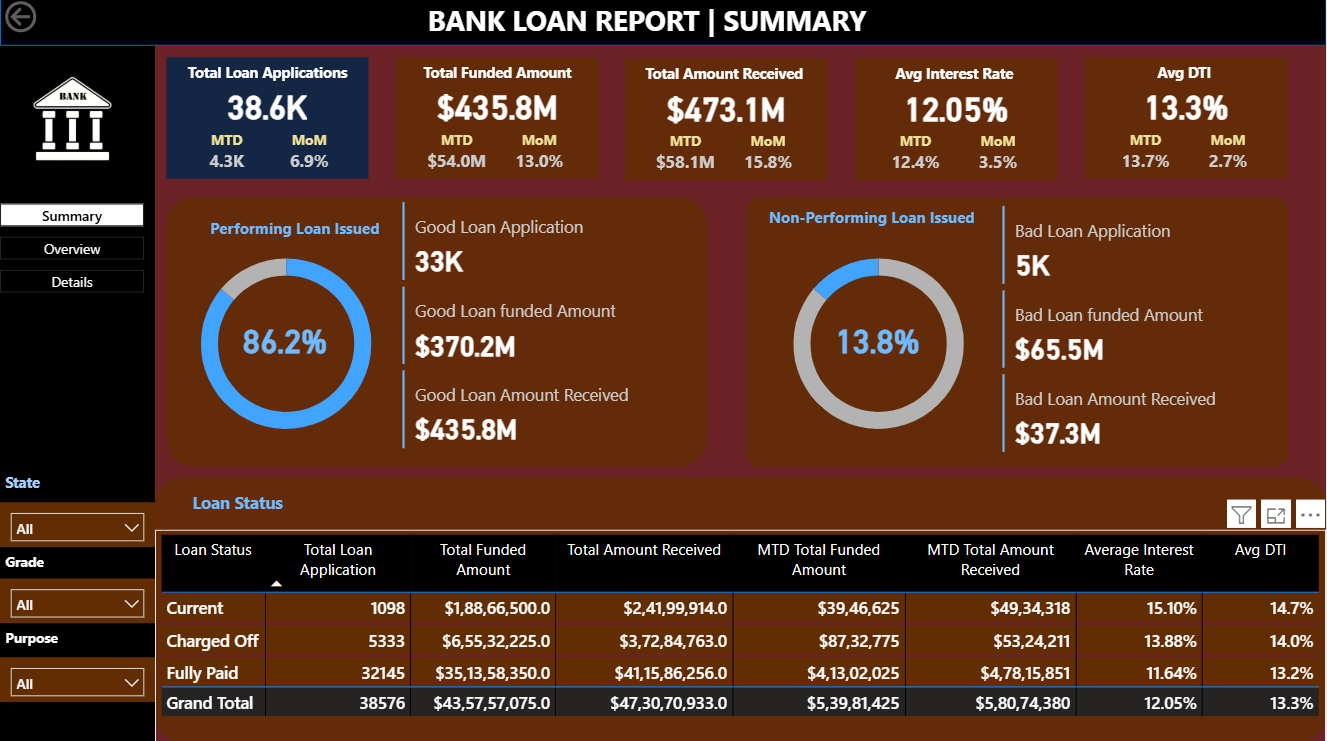

Layout of this report page (visuals, bound fields, positions):
{"tool":"powerbi","page":{"name":"Summary","canvas":[1280,720],"ordinal":0},"visuals":[{"type":"shape","box":[149.6,464.5,1130.4,255.8],"z":0},{"type":"shape","box":[0,48.3,149.6,672],"z":1000},{"type":"shape","box":[0,0,1280.3,48],"z":2000},{"type":"shape","box":[160.4,59.3,195.4,117.2],"z":3000,"group":"g1"},{"type":"shape","box":[382.1,59.3,195.4,117.2],"z":3000,"group":"g2"},{"type":"shape","box":[1047.1,59.3,195.4,117.2],"z":3000,"group":"g5"},{"type":"shape","box":[603.8,60.6,195.4,117.2],"z":3000,"group":"g3"},{"type":"shape","box":[825.4,60.6,195.4,117.2],"z":3000,"group":"g4"},{"type":"shape","box":[160.4,194.1,522,260],"z":3000},{"type":"textbox","box":[408.3,0,439.3,45.8],"z":4000},{"type":"cardVisual","fields":{"Data":["financial_loan.Total Loan Application"]},"box":[160.4,74.1,195.4,59.3],"z":4000,"group":"g1"},{"type":"cardVisual","fields":{"Data":["financial_loan.Total Funded Amount"]},"box":[382.1,74.1,195.4,59.3],"z":4000,"group":"g2"},{"type":"cardVisual","fields":{"Data":["financial_loan.Avg DTI"]},"box":[1047.1,74.1,195.4,59.3],"z":4000,"group":"g5"},{"type":"cardVisual","fields":{"Data":["financial_loan.Total Amount Received"]},"box":[603.8,75.4,195.4,59.3],"z":4000,"group":"g3"},{"type":"cardVisual","fields":{"Data":["financial_loan.Average Interest Rate"]},"box":[825.4,75.4,195.4,59.3],"z":4000,"group":"g4"},{"type":"actionButton","box":[0,0,100,40],"z":5000},{"type":"textbox","box":[160.4,59.3,195.4,29.6],"z":5000,"group":"g1"},{"type":"textbox","box":[382.1,59.3,195.4,29.6],"z":5000,"group":"g2"},{"type":"textbox","box":[1047.1,59.3,195.4,29.6],"z":5000,"group":"g5"},{"type":"textbox","box":[603.8,60.6,195.4,29.6],"z":5000,"group":"g3"},{"type":"textbox","box":[825.4,60.6,195.4,29.6],"z":5000,"group":"g4"},{"type":"group","id":"g1","title":"Group 1","box":[160.4,59.3,195.4,117.2],"z":6000},{"type":"card","title":"MTD","fields":{"Values":["financial_loan.MTD Loan Application"]},"box":[179.3,129.4,78.2,47.2],"z":6000,"group":"g1"},{"type":"card","title":"MTD","fields":{"Values":["financial_loan.MTD Funded Amount"]},"box":[401,129.4,78.2,47.2],"z":6000,"group":"g2"},{"type":"card","title":"MTD","fields":{"Values":["financial_loan.MTD Avg DTI"]},"box":[1066,129.4,78.2,47.2],"z":6000,"group":"g5"},{"type":"card","title":"MTD","fields":{"Values":["financial_loan.MTD Total Amount Received"]},"box":[622.7,130.7,78.2,47.2],"z":6000,"group":"g3"},{"type":"card","title":"MTD","fields":{"Values":["financial_loan.MTD Avg Int Rate"]},"box":[844.3,130.7,78.2,47.2],"z":6000,"group":"g4"},{"type":"card","title":"MoM","fields":{"Values":["financial_loan.MoM Loan Application"]},"box":[258.8,129.4,78.2,47.2],"z":7000,"group":"g1"},{"type":"card","title":"MoM","fields":{"Values":["financial_loan.MoM Funded Amount"]},"box":[480.5,129.4,78.2,47.2],"z":7000,"group":"g2"},{"type":"card","title":"MoM","fields":{"Values":["financial_loan.MoM Avg DTI"]},"box":[1145.5,129.4,78.2,47.2],"z":7000,"group":"g5"},{"type":"card","title":"MoM","fields":{"Values":["financial_loan.MoM Amount received"]},"box":[702.2,130.7,78.2,47.2],"z":7000,"group":"g3"},{"type":"card","title":"MoM","fields":{"Values":["financial_loan.MoM Avg Int Rate"]},"box":[923.8,130.7,78.2,47.2],"z":7000,"group":"g4"},{"type":"textbox","box":[187.3,208.9,195.4,29.6],"z":7000},{"type":"cardVisual","fields":{"Data":["financial_loan.Performing Loan %"]},"box":[177.9,299.2,195.4,60.6],"z":8000},{"type":"group","id":"g2","title":"Group 1","box":[382.1,59.3,195.4,117.2],"z":9000},{"type":"donutChart","fields":{"Category":["financial_loan.Good Vs Bad Loan"],"Y":["financial_loan.Total Loan Application"]},"box":[160.4,227.8,231.8,215.6],"z":10000},{"type":"group","id":"g3","title":"Group 1","box":[603.8,60.6,195.4,117.2],"z":11000},{"type":"group","id":"g4","title":"Group 1","box":[825.4,60.6,195.4,117.2],"z":12000},{"type":"group","id":"g5","title":"Group 1","box":[1047.1,59.3,195.4,117.2],"z":13000},{"type":"shape","box":[719.6,194.1,522.9,260.1],"z":14000},{"type":"cardVisual","fields":{"Data":["financial_loan.Good Loan Application","financial_loan.Good Loan funded Amount","financial_loan.Good Loan Amount Received"]},"box":[384.1,194.1,277.6,249.3],"z":15000},{"type":"donutChart","fields":{"Category":["financial_loan.Good Vs Bad Loan"],"Y":["financial_loan.Total Loan Application"]},"box":[731.8,227.8,231.8,215.6],"z":16000},{"type":"textbox","box":[731.8,198.1,218.3,29.6],"z":17000},{"type":"cardVisual","fields":{"Data":["financial_loan.Non-Performing Loan %"]},"box":[749.3,299.2,195.4,60.6],"z":18000},{"type":"cardVisual","fields":{"Data":["financial_loan.Bad Loan Application","financial_loan.Bad Loan funded Amount","financial_loan.Bad Loan Amount Received"]},"box":[962.7,197.9,277.5,249.7],"z":19000},{"type":"tableEx","fields":{"Values":["financial_loan.loan_status","financial_loan.Total Loan Application","financial_loan.Total Funded Amount","financial_loan.Total Amount Received","financial_loan.MTD Total Funded Amount","financial_loan.MTD Total Amount Received","financial_loan.Average Interest Rate","financial_loan.Avg DTI"]},"box":[149.6,515.2,1130.4,205.1],"z":20000},{"type":"textbox","box":[160.5,472.9,137.5,42.2],"z":21000},{"type":"slicer","fields":{"Values":["financial_loan.address_state"]},"box":[0,488.6,149.6,43.4],"z":22000},{"type":"textbox","box":[0,454.8,84.5,33.8],"z":23000},{"type":"slicer","fields":{"Values":["financial_loan.grade"]},"box":[0,562.2,149.6,43.4],"z":24000},{"type":"textbox","box":[0,532,84.5,30.2],"z":25000},{"type":"slicer","fields":{"Values":["financial_loan.purpose"]},"box":[0,638.2,149.6,43.4],"z":26000},{"type":"textbox","box":[0,605.6,84.5,32.6],"z":27000},{"type":"pageNavigator","box":[0,200.3,139.9,88.1],"z":28000},{"type":"image","box":[0,60.3,139.9,115.8],"z":29000}]}

Visuals, with their boxes on the page's 1280x720 design canvas (x1, y1, x2, y2). These are canvas units, not pixel positions in the 1327x741 screenshot, which may show the page scaled, cropped or inside an application window:
shape: box=[150, 464, 1280, 720]
shape: box=[0, 48, 150, 720]
shape: box=[0, 0, 1280, 48]
shape: box=[160, 59, 356, 176]
shape: box=[382, 59, 578, 176]
shape: box=[1047, 59, 1242, 176]
shape: box=[604, 61, 799, 178]
shape: box=[825, 61, 1021, 178]
shape: box=[160, 194, 682, 454]
textbox: box=[408, 0, 848, 46]
cardVisual - financial_loan.Total Loan Application: box=[160, 74, 356, 133]
cardVisual - financial_loan.Total Funded Amount: box=[382, 74, 578, 133]
cardVisual - financial_loan.Avg DTI: box=[1047, 74, 1242, 133]
cardVisual - financial_loan.Total Amount Received: box=[604, 75, 799, 135]
cardVisual - financial_loan.Average Interest Rate: box=[825, 75, 1021, 135]
actionButton: box=[0, 0, 100, 40]
textbox: box=[160, 59, 356, 89]
textbox: box=[382, 59, 578, 89]
textbox: box=[1047, 59, 1242, 89]
textbox: box=[604, 61, 799, 90]
textbox: box=[825, 61, 1021, 90]
"Group 1" group: box=[160, 59, 356, 176]
"MTD" card: box=[179, 129, 258, 177]
"MTD" card: box=[401, 129, 479, 177]
"MTD" card: box=[1066, 129, 1144, 177]
"MTD" card: box=[623, 131, 701, 178]
"MTD" card: box=[844, 131, 922, 178]
"MoM" card: box=[259, 129, 337, 177]
"MoM" card: box=[480, 129, 559, 177]
"MoM" card: box=[1146, 129, 1224, 177]
"MoM" card: box=[702, 131, 780, 178]
"MoM" card: box=[924, 131, 1002, 178]
textbox: box=[187, 209, 383, 238]
cardVisual - financial_loan.Performing Loan %: box=[178, 299, 373, 360]
"Group 1" group: box=[382, 59, 578, 176]
donutChart - financial_loan.Good Vs Bad Loan x financial_loan.Total Loan Application: box=[160, 228, 392, 443]
"Group 1" group: box=[604, 61, 799, 178]
"Group 1" group: box=[825, 61, 1021, 178]
"Group 1" group: box=[1047, 59, 1242, 176]
shape: box=[720, 194, 1242, 454]
cardVisual - financial_loan.Good Loan Application x financial_loan.Good Loan funded Amount: box=[384, 194, 662, 443]
donutChart - financial_loan.Good Vs Bad Loan x financial_loan.Total Loan Application: box=[732, 228, 964, 443]
textbox: box=[732, 198, 950, 228]
cardVisual - financial_loan.Non-Performing Loan %: box=[749, 299, 945, 360]
cardVisual - financial_loan.Bad Loan Application x financial_loan.Bad Loan funded Amount: box=[963, 198, 1240, 448]
tableEx - financial_loan.loan_status x financial_loan.Total Loan Application: box=[150, 515, 1280, 720]
textbox: box=[160, 473, 298, 515]
slicer - financial_loan.address_state: box=[0, 489, 150, 532]
textbox: box=[0, 455, 84, 489]
slicer - financial_loan.grade: box=[0, 562, 150, 606]
textbox: box=[0, 532, 84, 562]
slicer - financial_loan.purpose: box=[0, 638, 150, 682]
textbox: box=[0, 606, 84, 638]
pageNavigator: box=[0, 200, 140, 288]
image: box=[0, 60, 140, 176]
